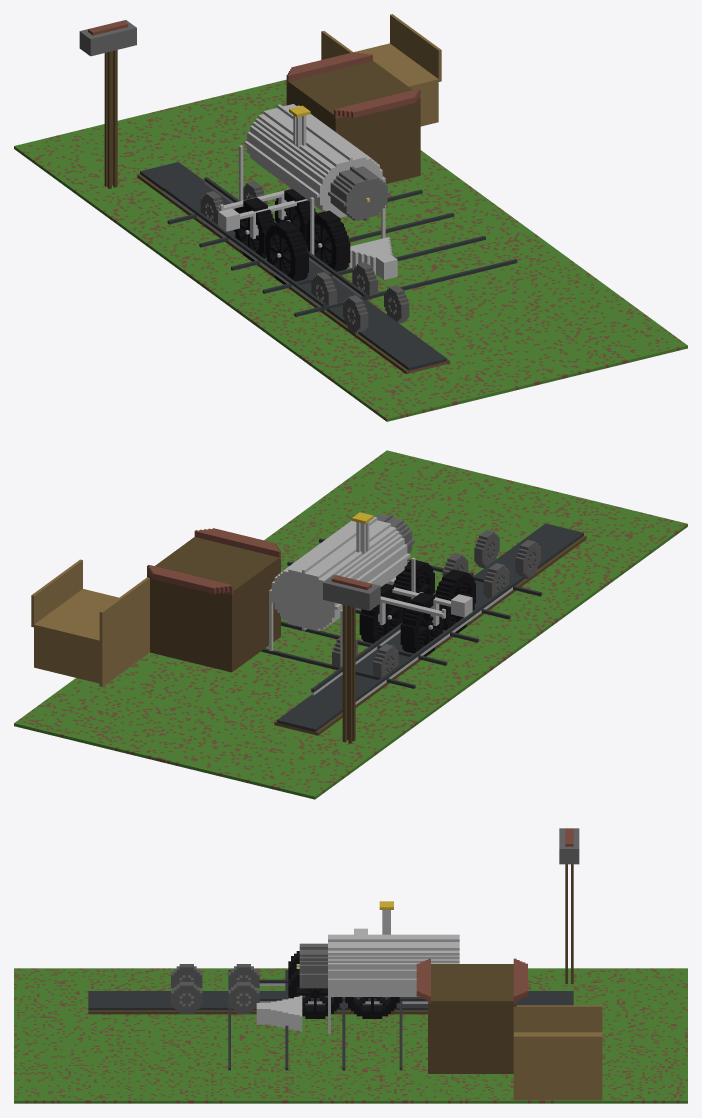
3 views of the same model, one above another, from view 1: azimuth 30°, elevation 25°; view 2: azimuth 150°, elevation 25°; view 3: azimuth 270°, elevation 25° (orthographic). The views are drawn at different scales.
Bounding box in the file's own units: 121 × 57 × 236.
